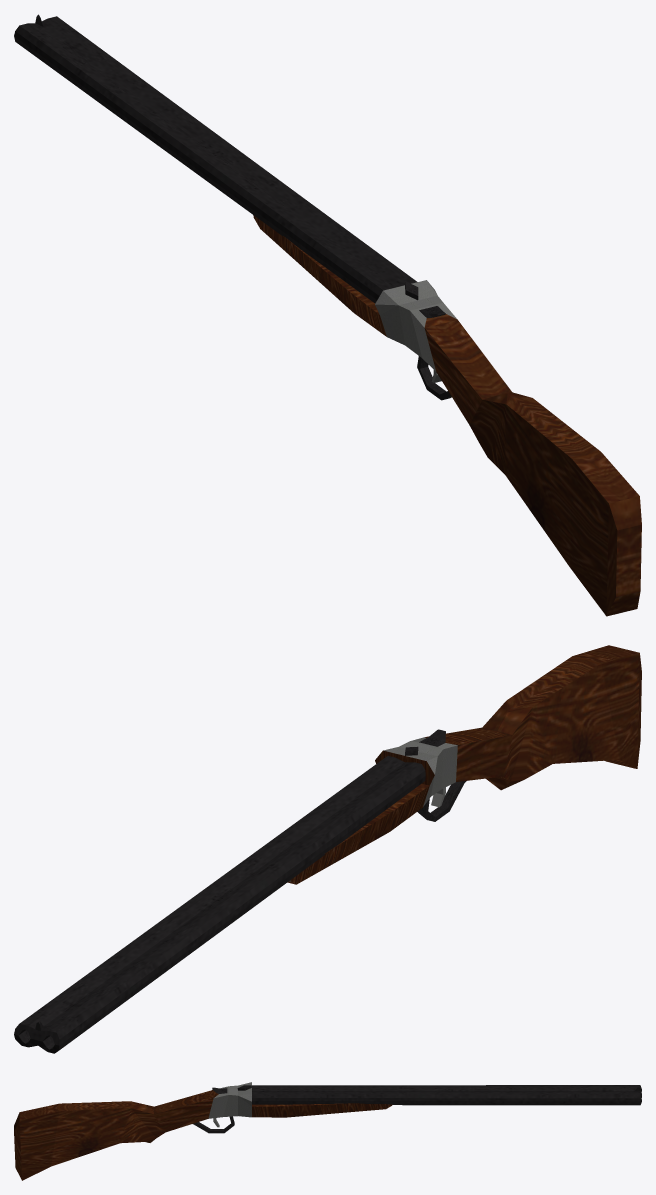
Rendered from weapon_shotgun.glb.
3 renders of one model, top to bottom at view 1: azimuth 30°, elevation 25°; view 2: azimuth 150°, elevation 25°; view 3: azimuth 270°, elevation 25°, orthographic. The views are drawn at different scales.
Parts seen in each view (by area): view 1: Base, Barrel; view 2: Base, Barrel; view 3: Base, Barrel.
Part boxes in pixels (x1,y1,x2,y2): Base: (253,215,641,616); Barrel: (14,14,417,303); Base: (287,645,641,884); Barrel: (14,756,425,1053); Base: (14,1082,392,1180); Barrel: (252,1085,641,1105).
Bounding box in the file's own units: 28.45 × 78.36 × 487.
Materials: 1 (1 with a texture image).
